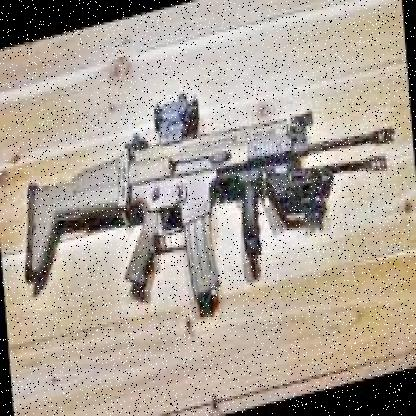rifle: (16, 60, 404, 344)
